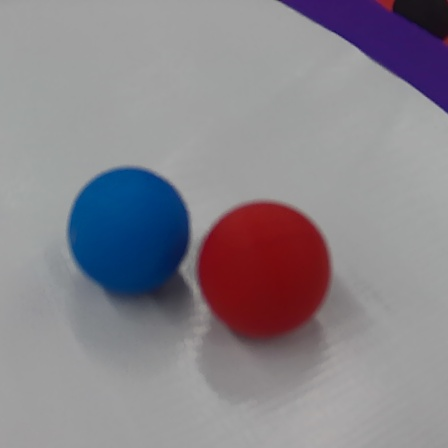blue: (62, 159, 193, 304)
red: (199, 196, 332, 343)
